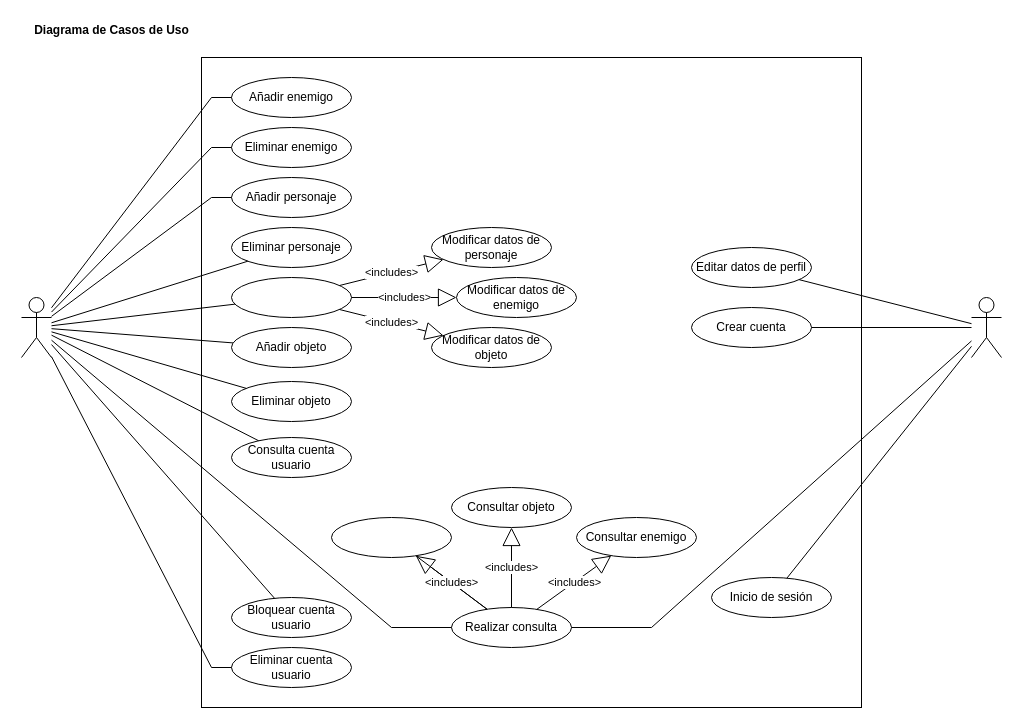
The diagram is 1031 pixels wide and 725 high, and some of its shapes have lost their labels. The shapes that lost their labels are listed below. From the top down, each one's centre as x and y in pixels, then its label:
At pixel 291 297: "Modificar datos".
At pixel 36 327: "ADMIN".
At pixel 986 327: "USUARIO".
At pixel 391 537: "Consultar personaje".
